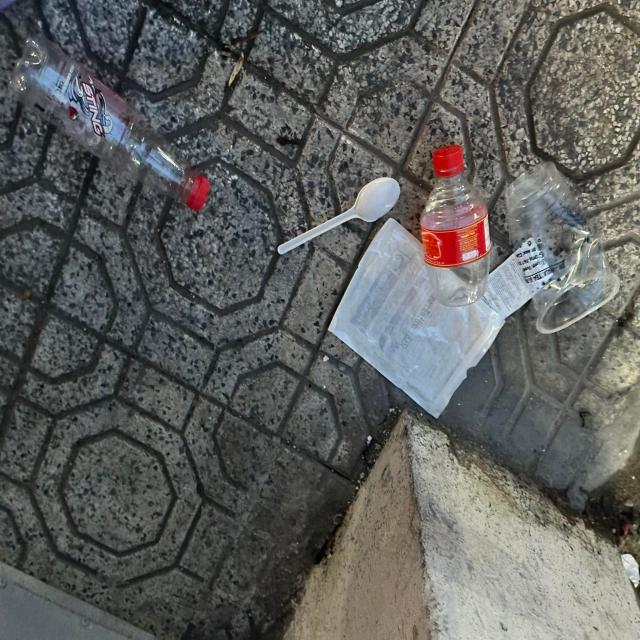bottle: (8, 36, 212, 212), (420, 144, 490, 305)
packet: (327, 216, 506, 422)
plastic glass: (506, 162, 620, 336)
plastic utensil: (278, 177, 401, 256)
